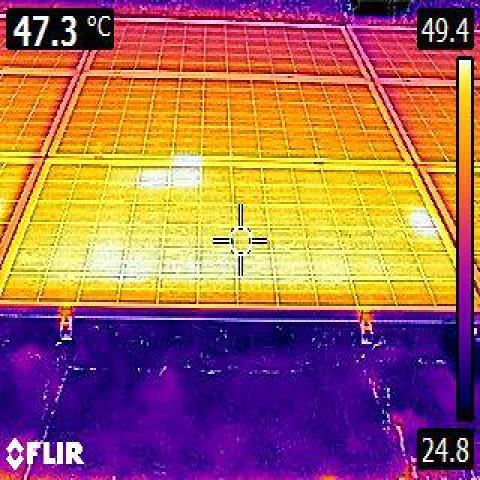fault: (88, 242, 243, 284), (172, 166, 199, 189), (412, 214, 436, 239), (141, 168, 167, 188)
